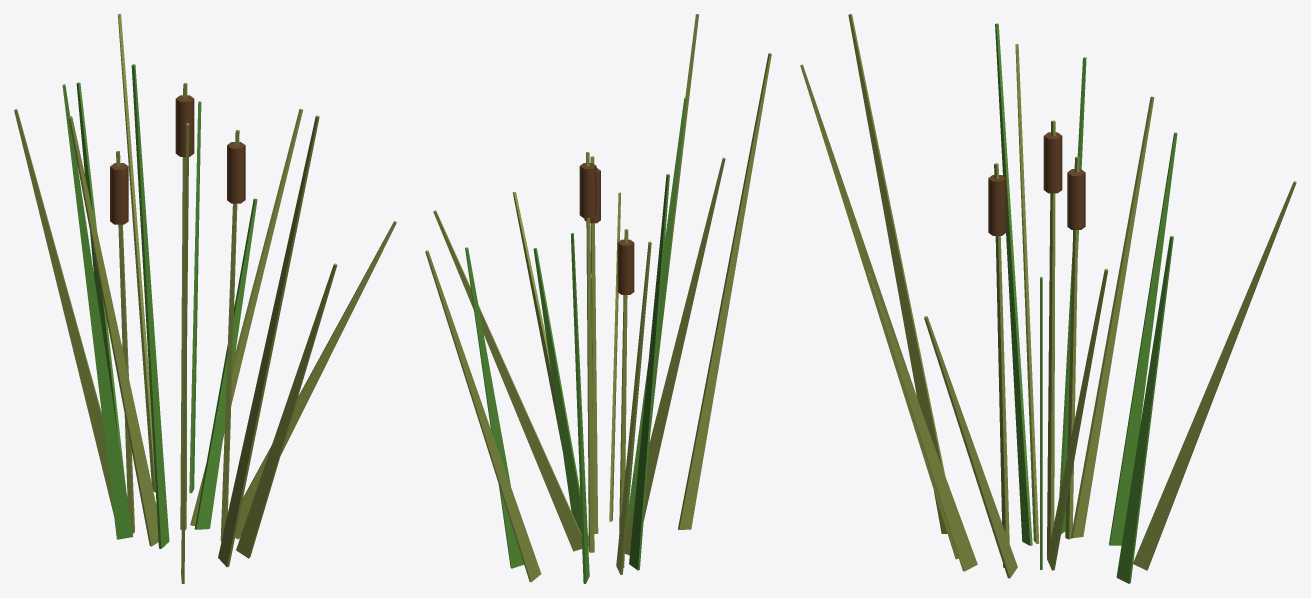
Rendered from gelagah.glb.
The picture shows the model from 3 angles, left to right: view 1: azimuth 30°, elevation 25°; view 2: azimuth 150°, elevation 25°; view 3: azimuth 270°, elevation 25°; orthographic projection. The views are drawn at different scales.
Visible parts, largest first — view 1: body; view 2: body; view 3: body.
Boxes of the visible parts, x1,y1,x2,y2 form: body: [14, 14, 396, 583]; body: [425, 14, 771, 583]; body: [800, 14, 1296, 583].
Size of the model in its own units: 1.4 by 2.4 by 2.15.
1 material, 1 textured.
